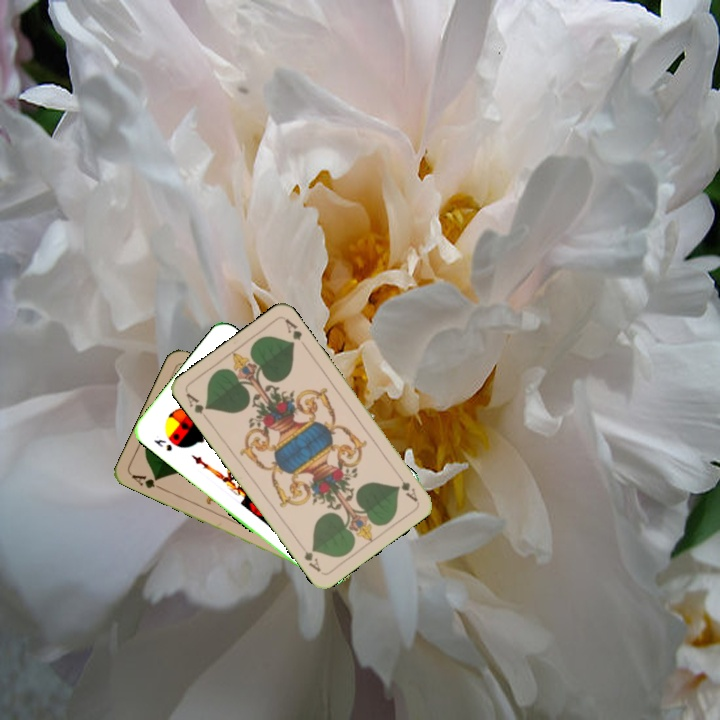GA: (182, 388, 212, 424), (392, 468, 420, 504), (127, 470, 166, 493)
SK: (150, 435, 175, 454)
